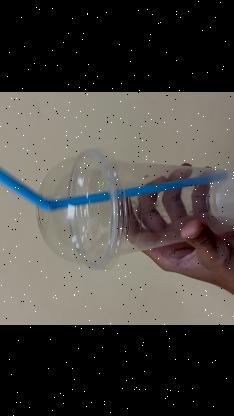Others: (11, 148, 234, 270)
